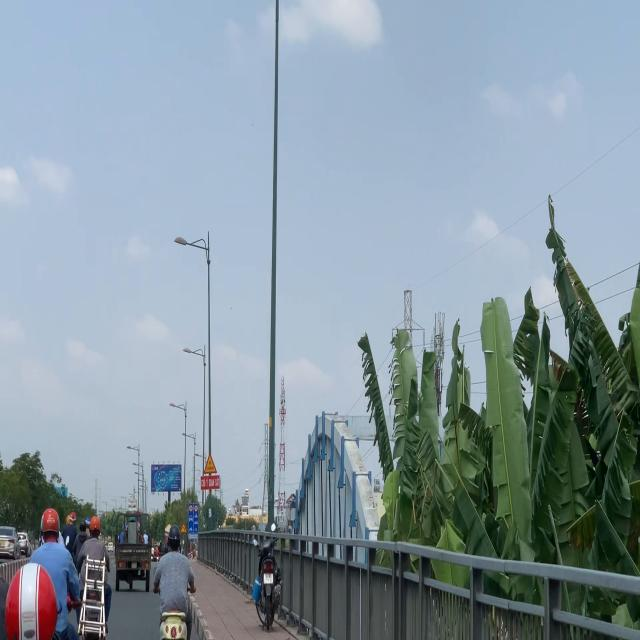Nguy hiem: (204, 453, 218, 474)
